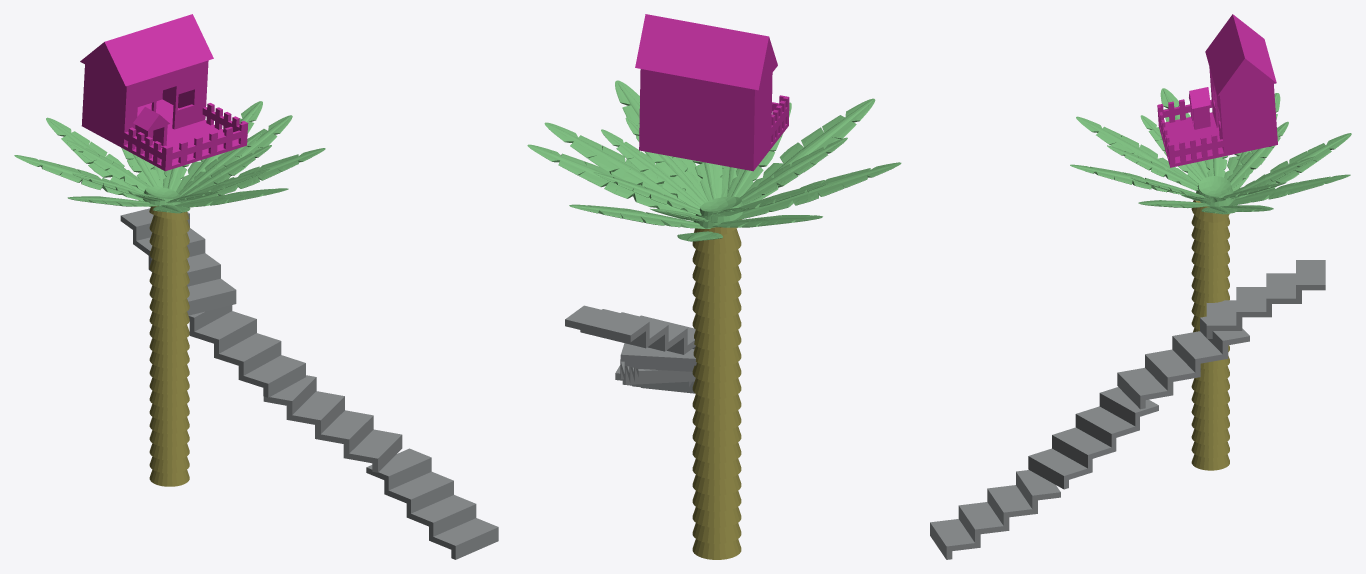
The model's file is Amazing Krunk-Juttuli.glb.
3 renders of one model, left to right at view 1: azimuth 30°, elevation 25°; view 2: azimuth 150°, elevation 25°; view 3: azimuth 270°, elevation 25°, orthographic. The views are drawn at different scales.
Parts seen in each view (by area): view 1: Mesh_Mesh_head_geo.001_lambert2SG.001; view 2: Mesh_Mesh_head_geo.001_lambert2SG.001; view 3: Mesh_Mesh_head_geo.001_lambert2SG.001.
Boxes of the visible parts, bbox=[...] form: Mesh_Mesh_head_geo.001_lambert2SG.001: bbox=[14, 14, 498, 559]; Mesh_Mesh_head_geo.001_lambert2SG.001: bbox=[527, 14, 901, 559]; Mesh_Mesh_head_geo.001_lambert2SG.001: bbox=[930, 14, 1351, 559].
Bounding box in the file's own units: 0.1181 × 0.16 × 0.1418.
